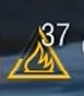1fire: (5, 48, 73, 82)
